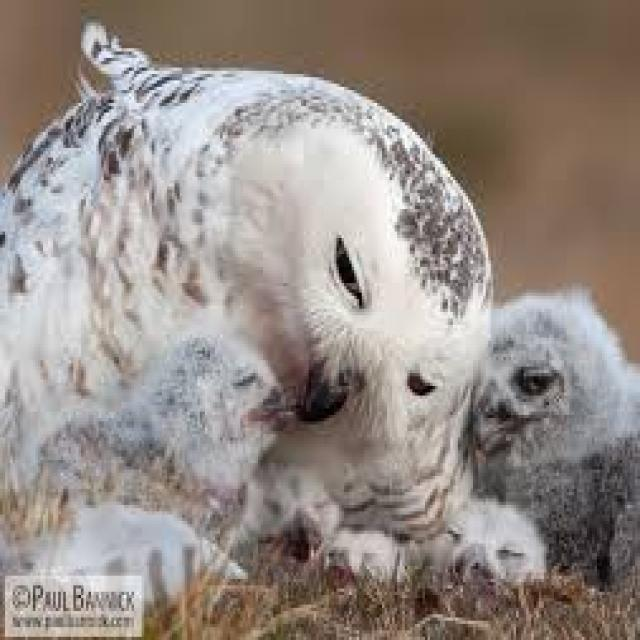snowy owl: (9, 26, 626, 573)
